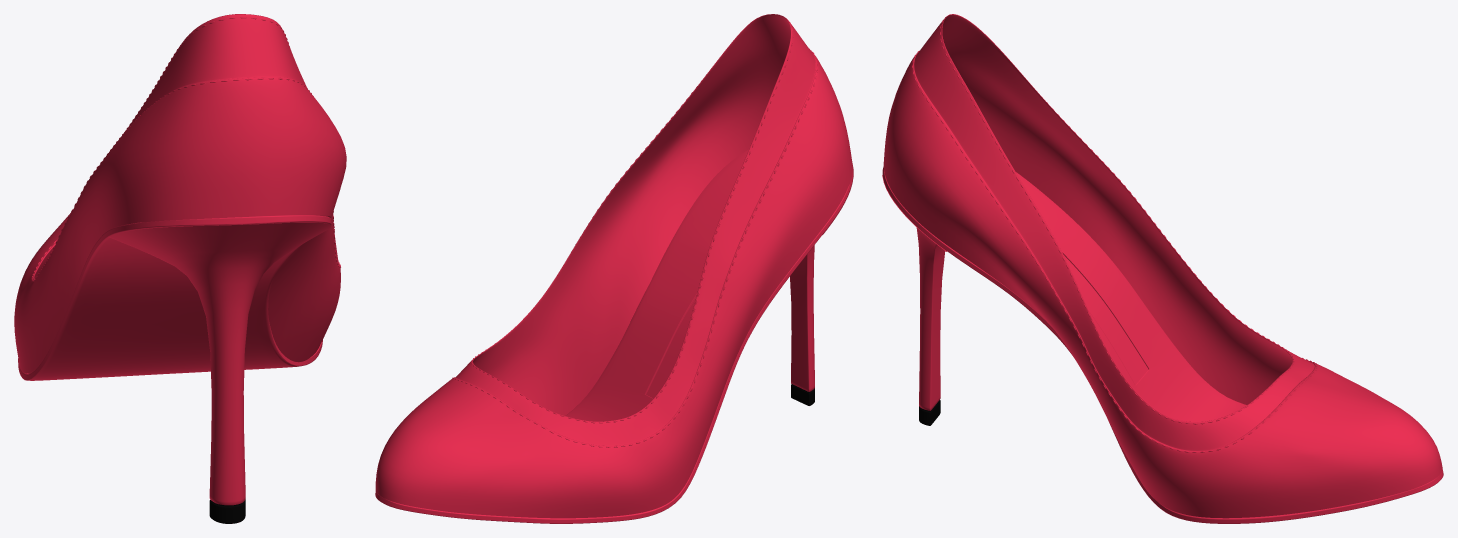
File: scarpa.gltf
3 renders of one model, left to right at view 1: azimuth 30°, elevation 25°; view 2: azimuth 150°, elevation 25°; view 3: azimuth 270°, elevation 25°, orthographic. The views are drawn at different scales.
Parts seen in each view (by area): view 1: Mensola 3 Scarpa; view 2: Mensola 3 Scarpa; view 3: Mensola 3 Scarpa.
Part boxes in pixels (bbox=[...]): Mensola 3 Scarpa: bbox=[14, 14, 346, 523]; Mensola 3 Scarpa: bbox=[375, 14, 853, 523]; Mensola 3 Scarpa: bbox=[882, 14, 1443, 523].
Size of the model in its own units: 0.0913 by 0.1214 by 0.1501.
